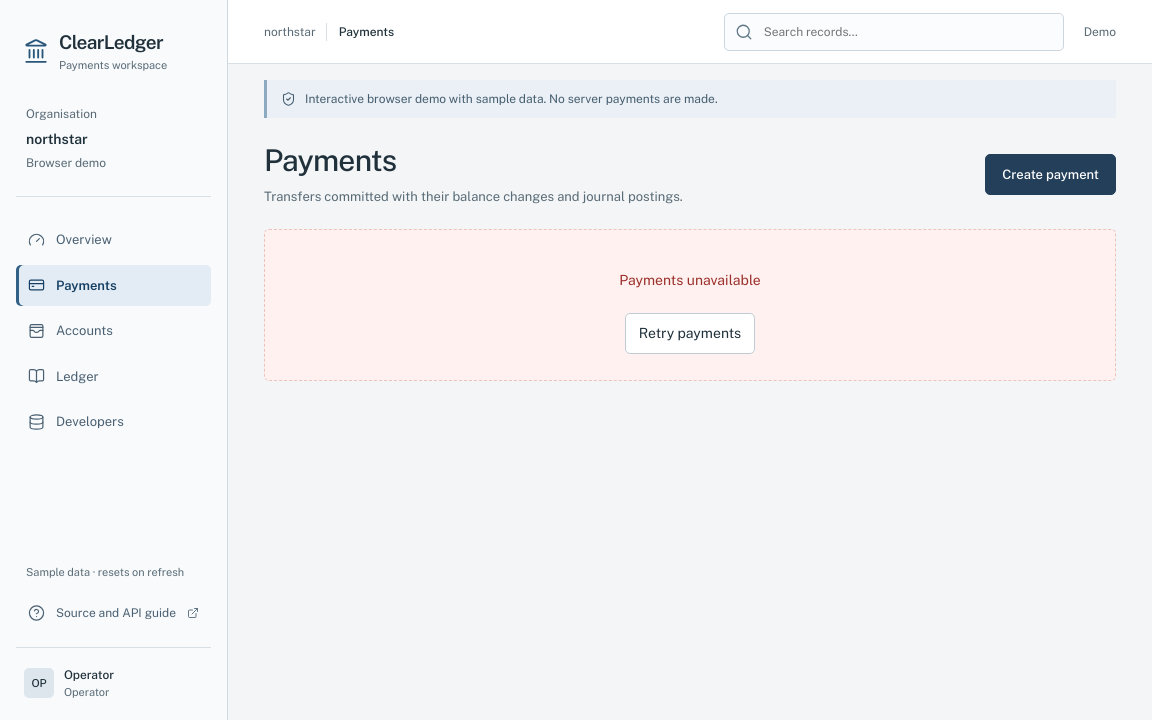
Test: shows an API error with a working retry instead of a blank table
Expected: the message shows "Payments unavailable", x1=619 y1=272 x2=761 y2=288
Click the button "Retry payments" at (690, 333), box x1=625 y1=312 x2=755 y2=354
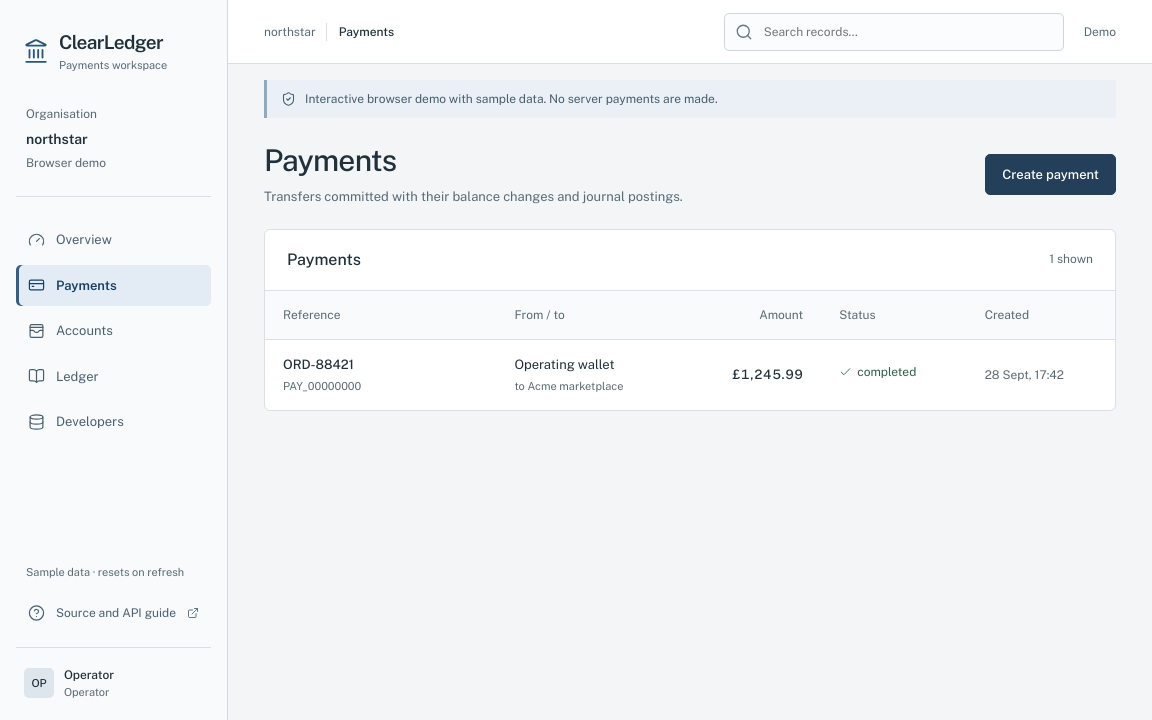
Expected: the text "ORD-88421" is shown, x1=283 y1=356 x2=354 y2=372
